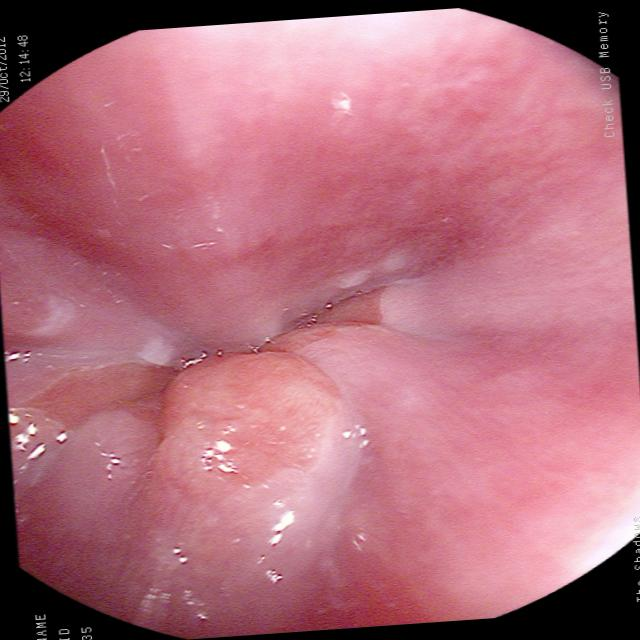Normal-Z-Line: (7, 261, 418, 492)
